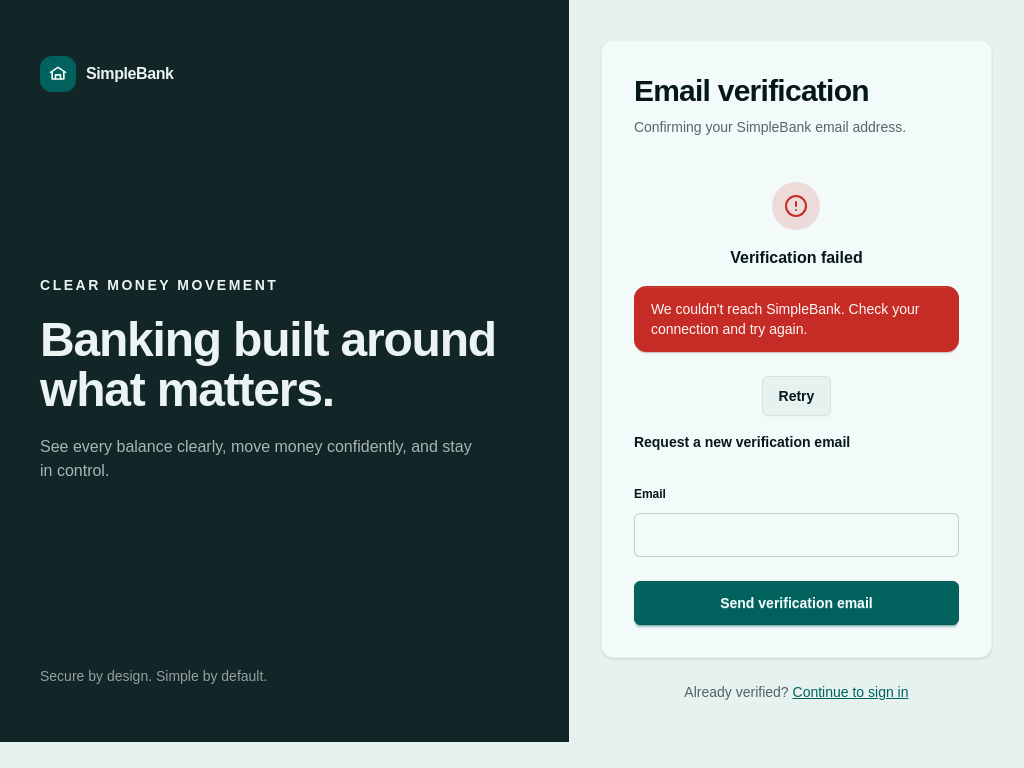
Test: VerifyEmailPage › retries the captured verification request after removing credentials from the URL
This screenshot has width=1024, height=768.
Expected: the message reads "We couldn't reach SimpleBank. Check your connection and try again.", [651,301,919,337]
Click the button "Retry": (796, 396) [762,376,831,416]
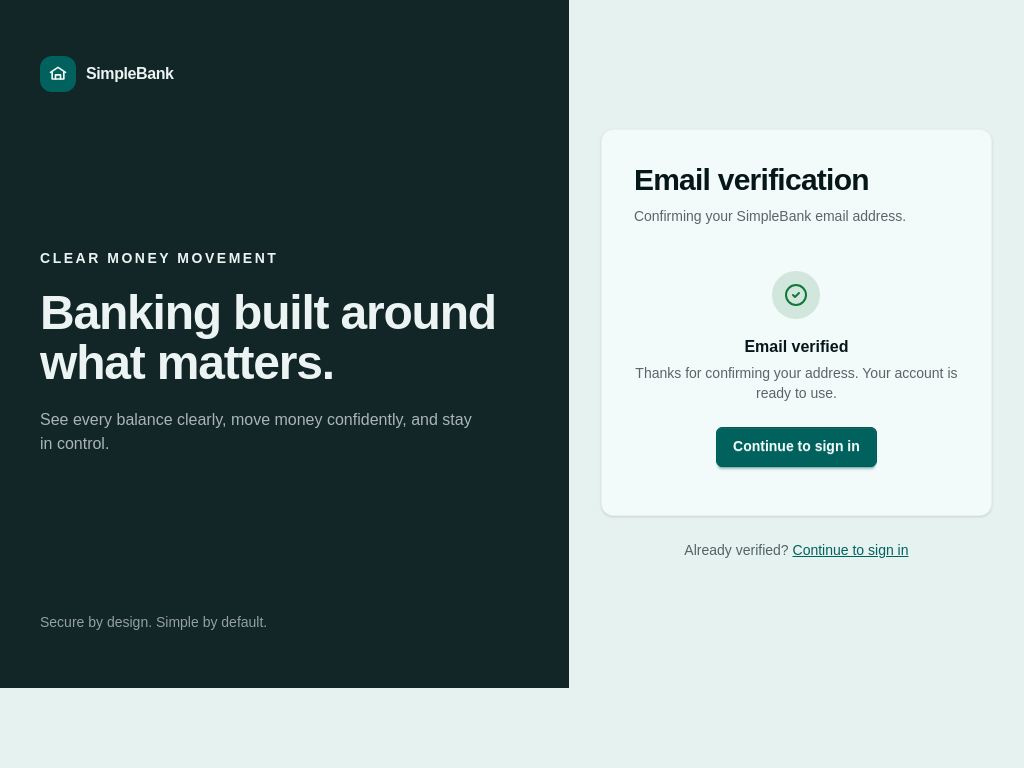
Result: the heading "Email verified" is shown at [744,338,848,354]
